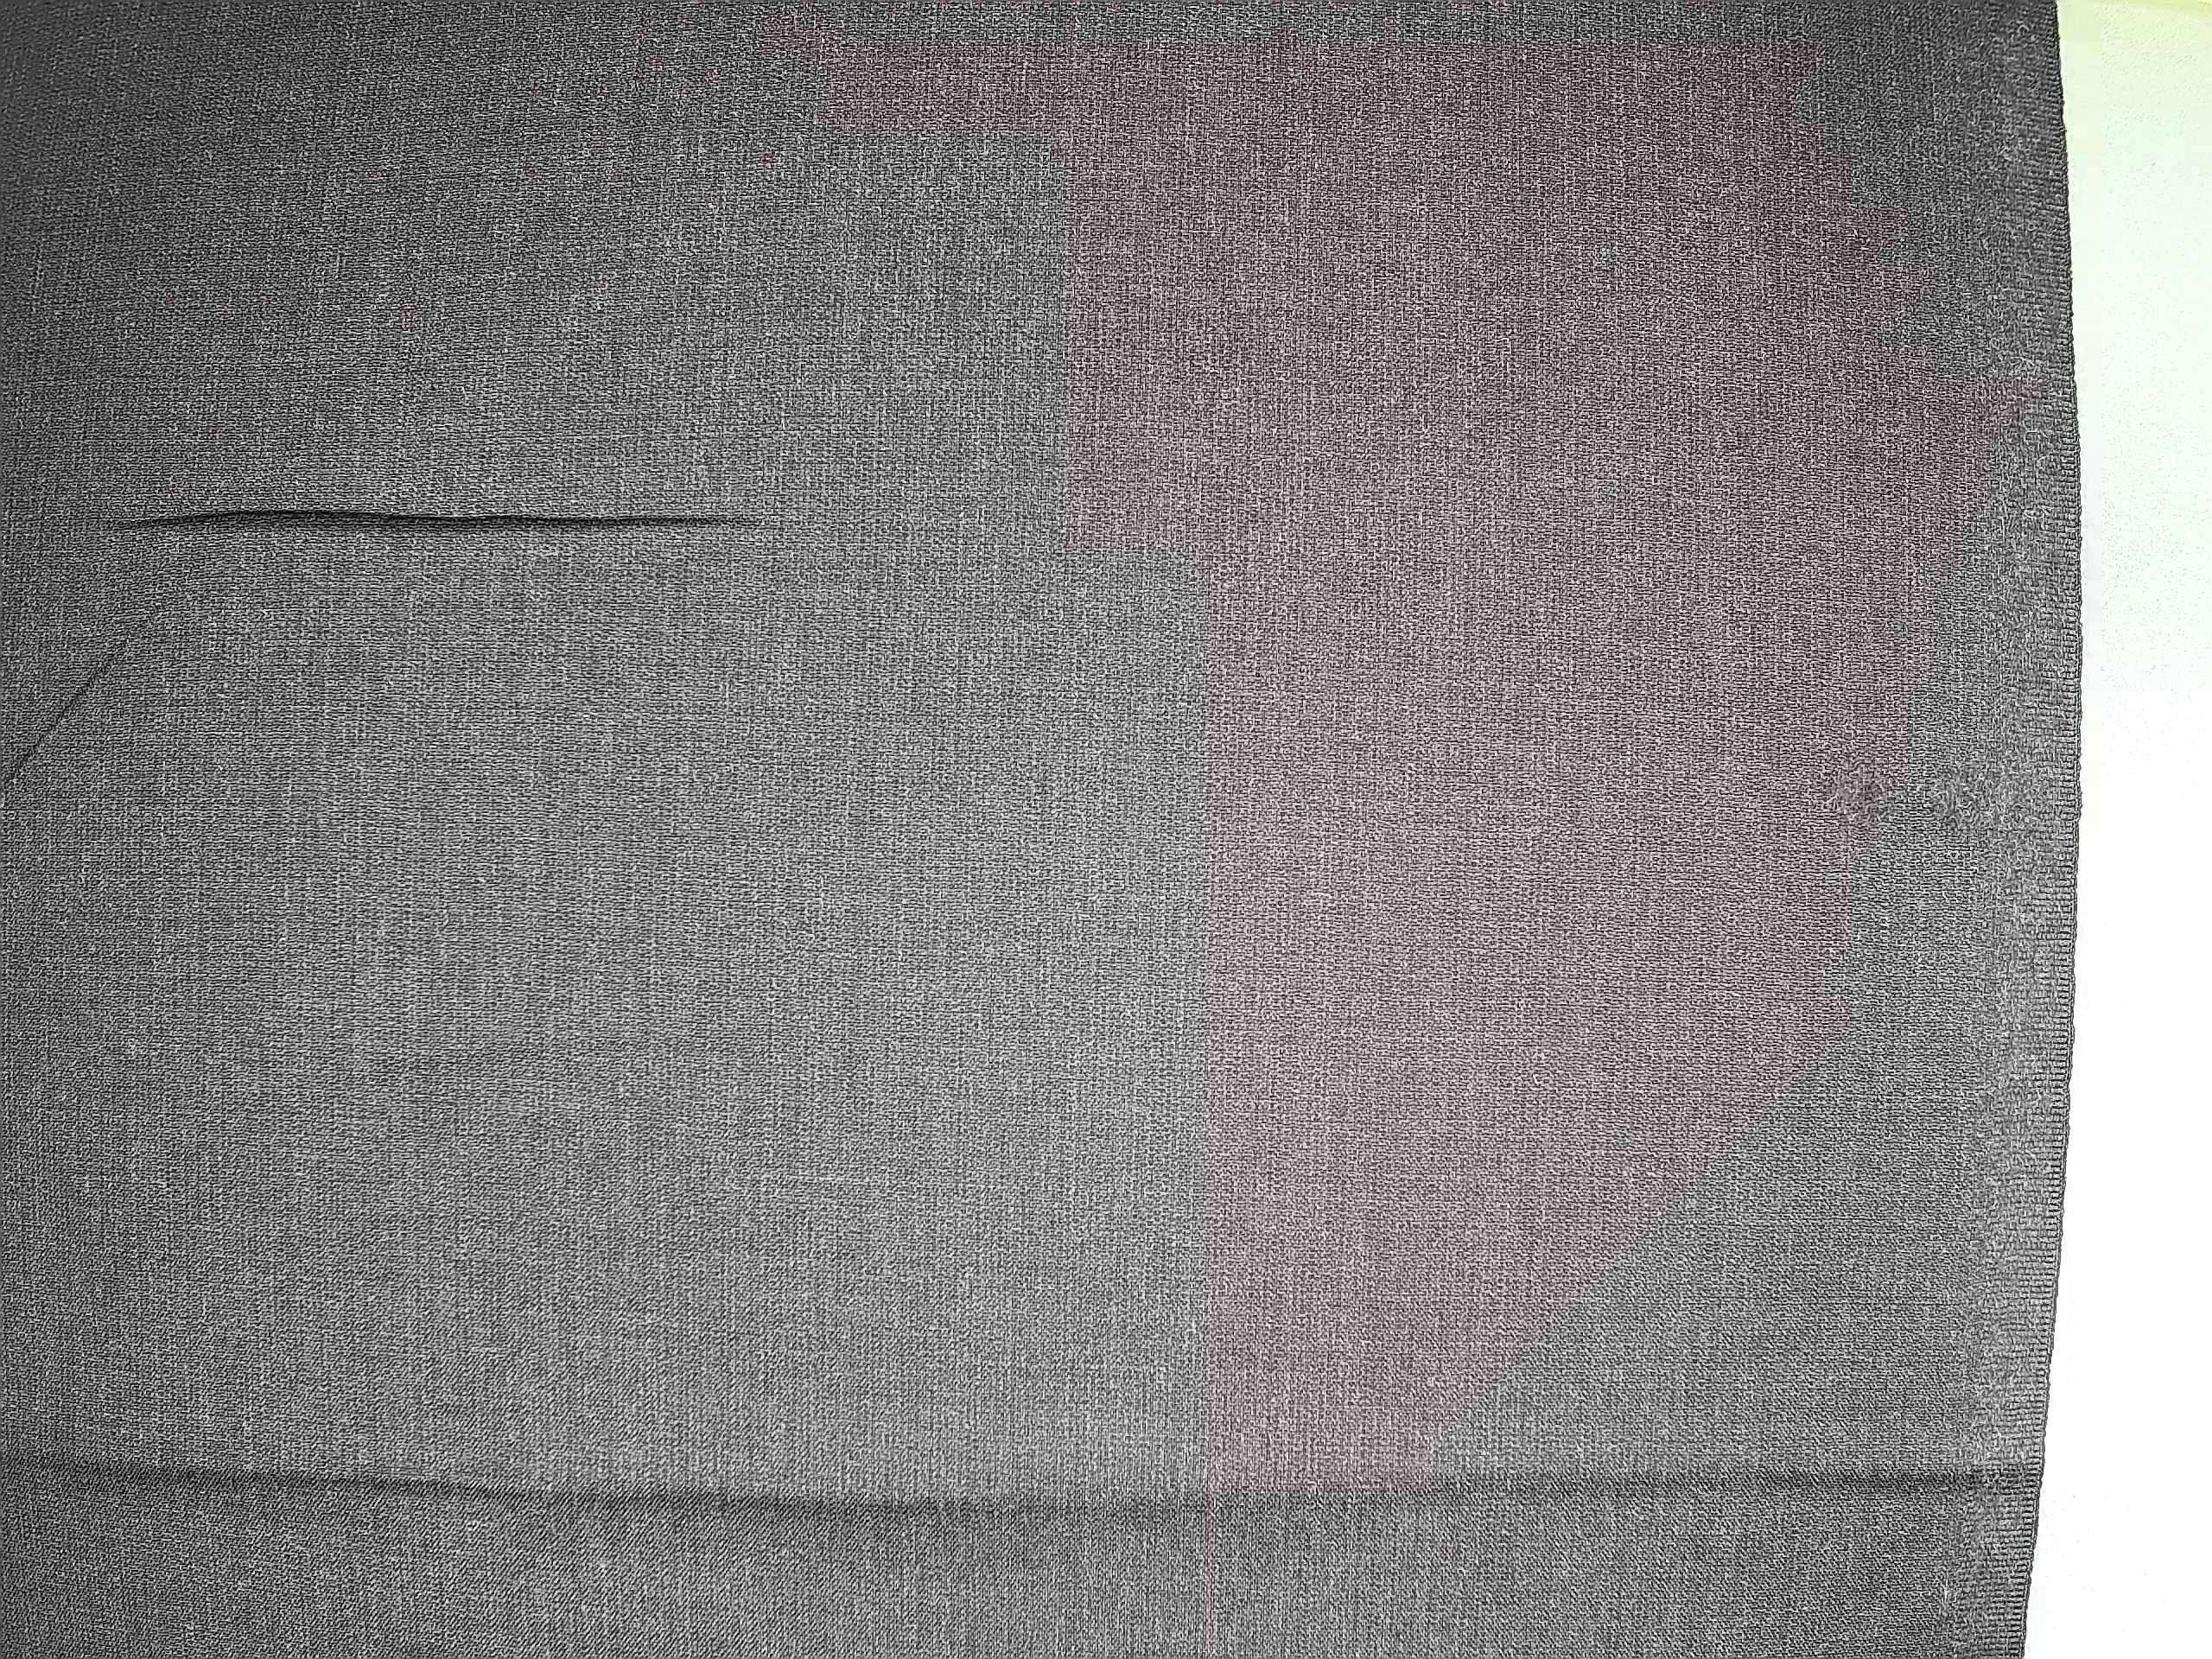rubbing-hole: (1780, 720, 2012, 880)
